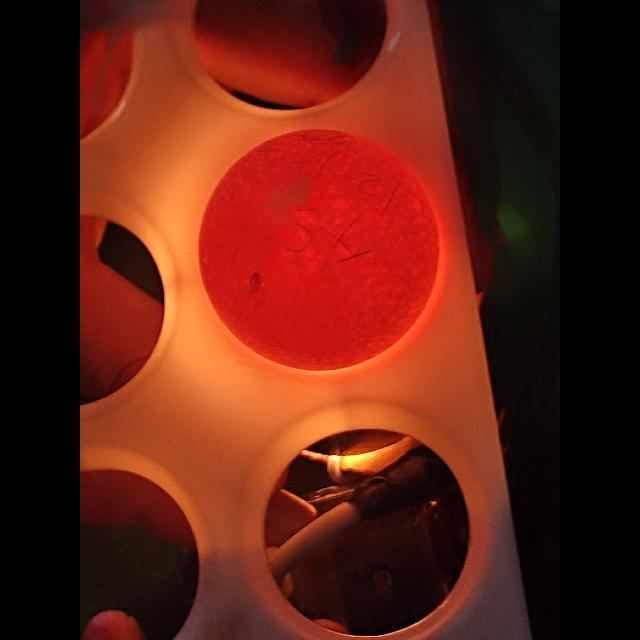Infertile: (204, 125, 436, 365)
